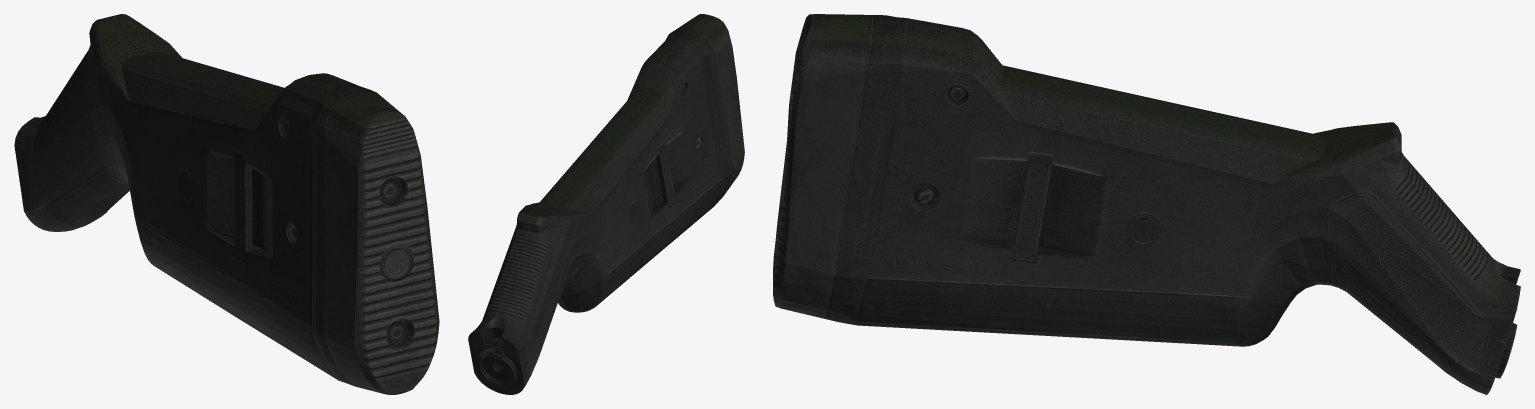
The picture shows the model from 3 angles, left to right: view 1: azimuth 30°, elevation 25°; view 2: azimuth 150°, elevation 25°; view 3: azimuth 270°, elevation 25°; orthographic projection. The views are drawn at different scales.
Parts seen in each view (by area): view 1: TW_5eea217fc64c5d0dfc05712a_PZ_Import; view 2: TW_5eea217fc64c5d0dfc05712a_PZ_Import; view 3: TW_5eea217fc64c5d0dfc05712a_PZ_Import.
Part boxes in pixels (x1=…): TW_5eea217fc64c5d0dfc05712a_PZ_Import: x1=14, y1=14, x2=439, y2=394; TW_5eea217fc64c5d0dfc05712a_PZ_Import: x1=468, y1=14, x2=744, y2=394; TW_5eea217fc64c5d0dfc05712a_PZ_Import: x1=773, y1=14, x2=1520, y2=394.
Size of the model in its own units: 0.0262 by 0.1566 by 0.0859.
Materials: 1 (1 with a texture image).
